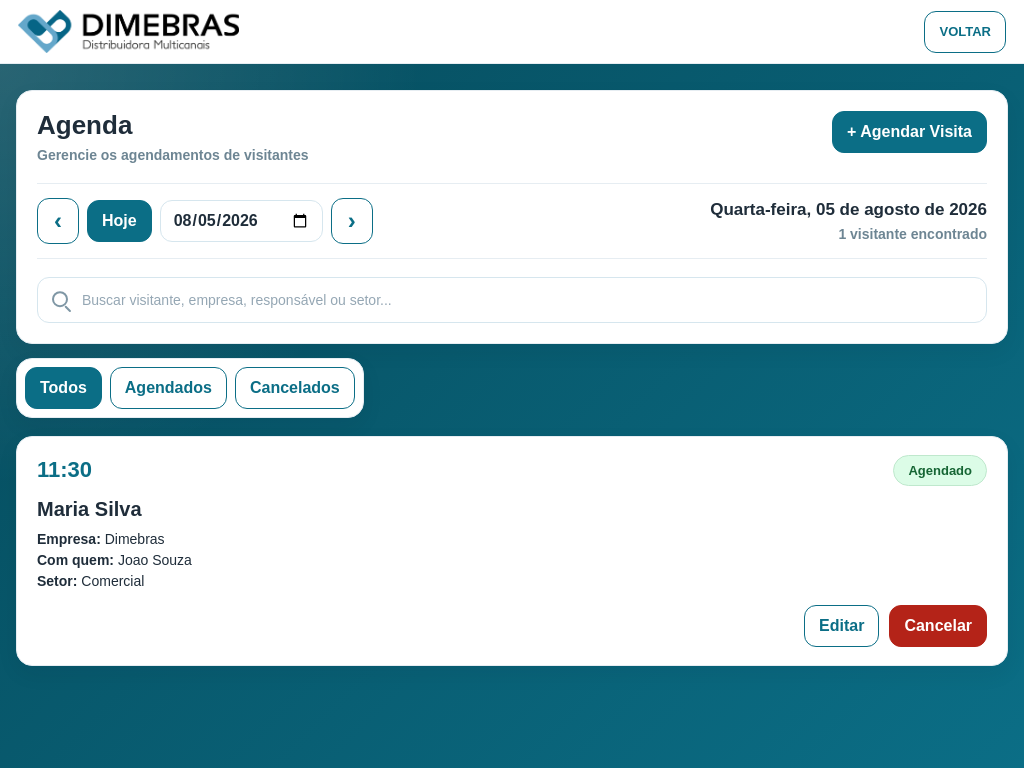
Test case: Agenda página › mostra estado vazio para filtro aplicado no período
Expected: the heading "Maria Silva" is shown, [37,498,142,520]
Step 1. Type "sem resultado" into the field with placeholder "Buscar visitante, empresa, responsável ou setor..." → {"x": 512, "y": 300}, box [37,277,987,323]
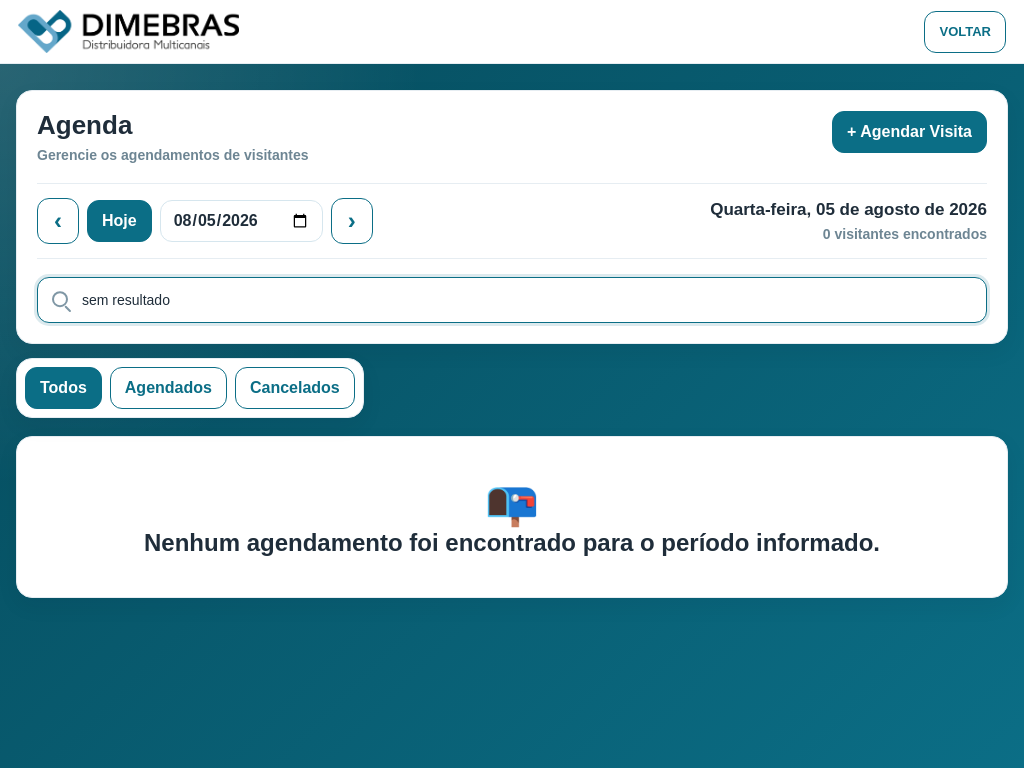
Result: the heading "Nenhum agendamento foi encontrado para o período informado." is shown at [144,529,880,556]
